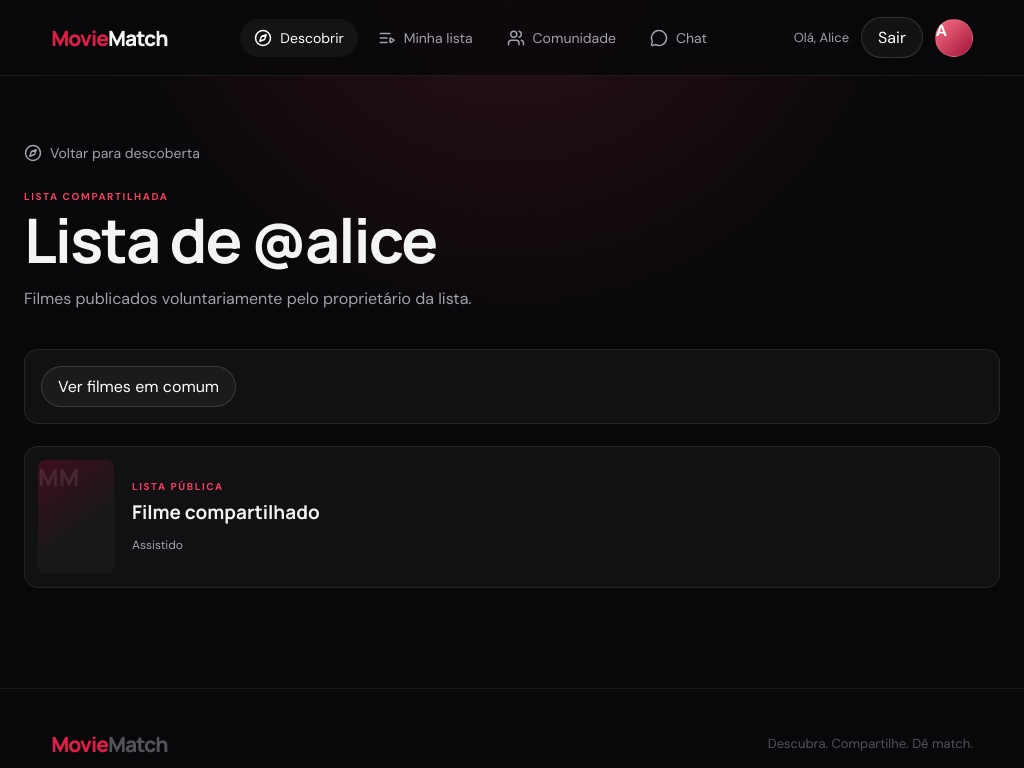
MovieMatch home › loads films in common only after an authenticated viewer requests them
The image size is (1024, 768).
Click the button "Ver filmes em comum".
click(139, 387)  # box [41, 366, 236, 407]
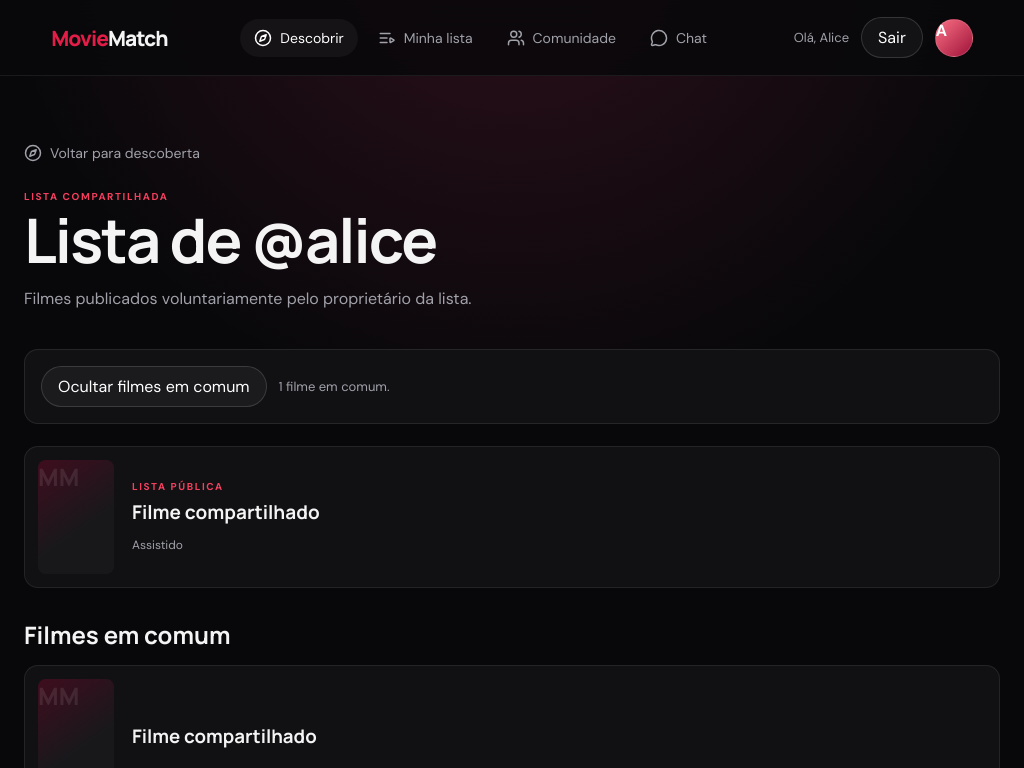
Expected: the text "1 filme em comum." is shown, [279, 378, 390, 395]
